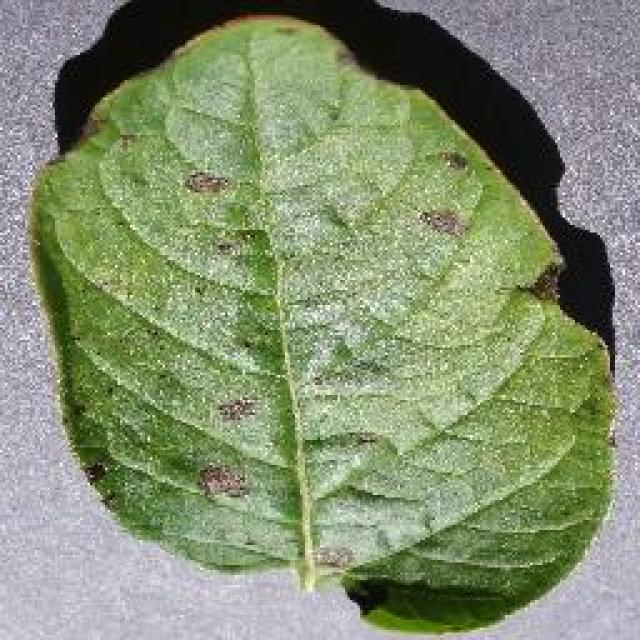early_blight: (22, 10, 620, 638)
